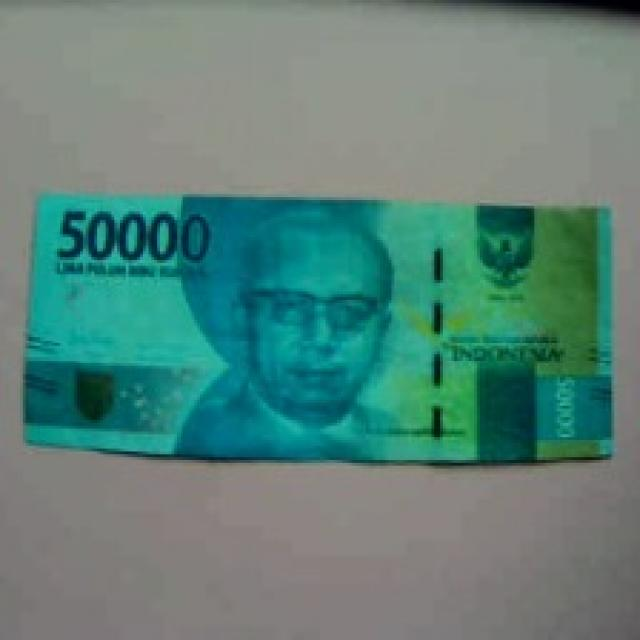dua ribu rupiah: (0, 115, 640, 533)
